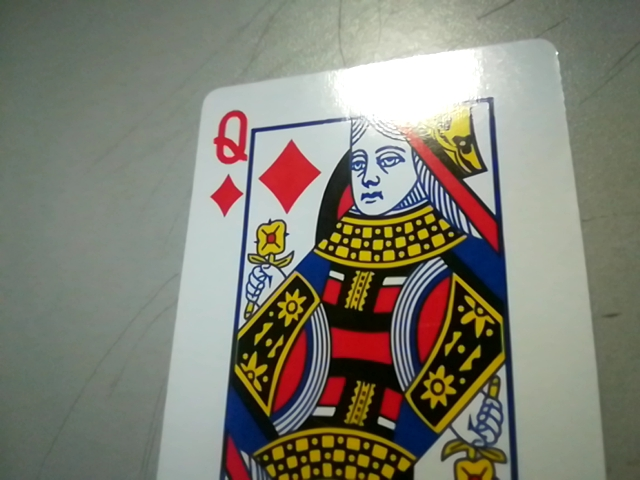fk q: (201, 106, 257, 213)
